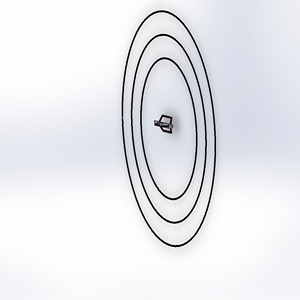circle: (105, 1, 224, 255)
submarine: (149, 105, 182, 143)
